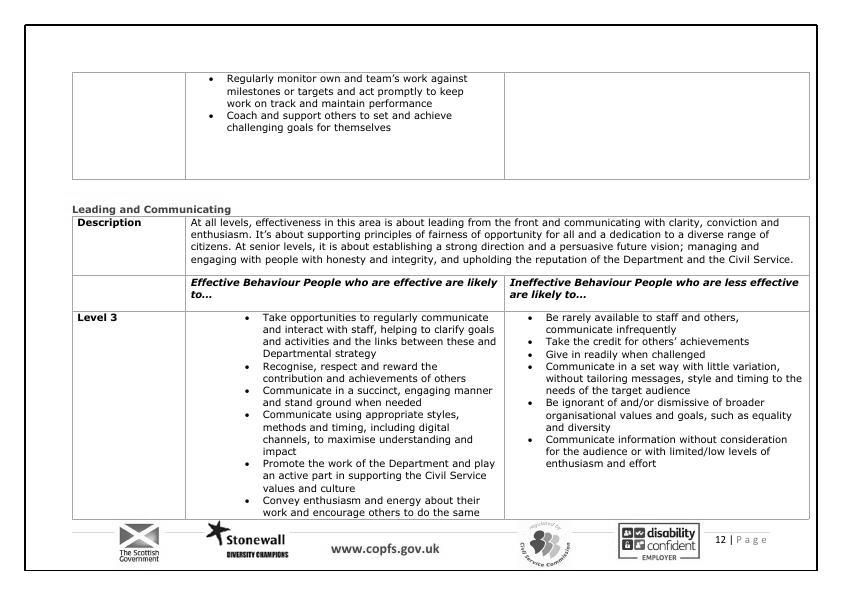table: (71, 214, 812, 524), (63, 60, 813, 183)
text: (71, 203, 232, 215)
